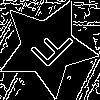F: (22, 22, 77, 77)
